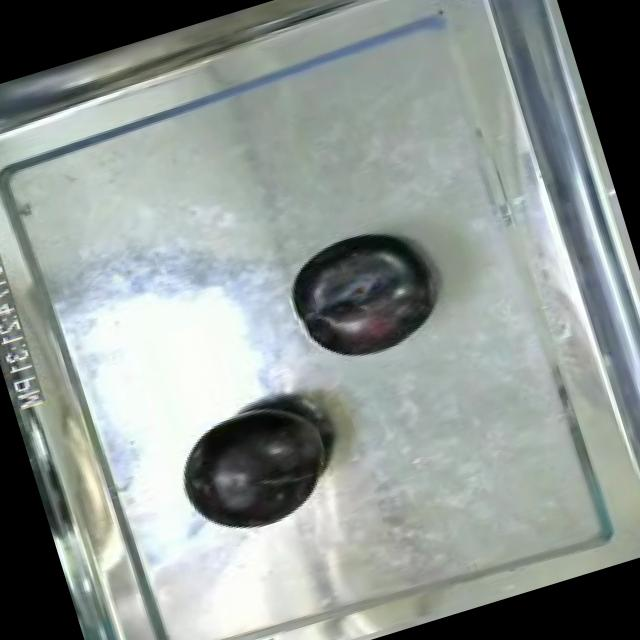Fruit: (164, 388, 346, 549), (275, 214, 451, 375)
